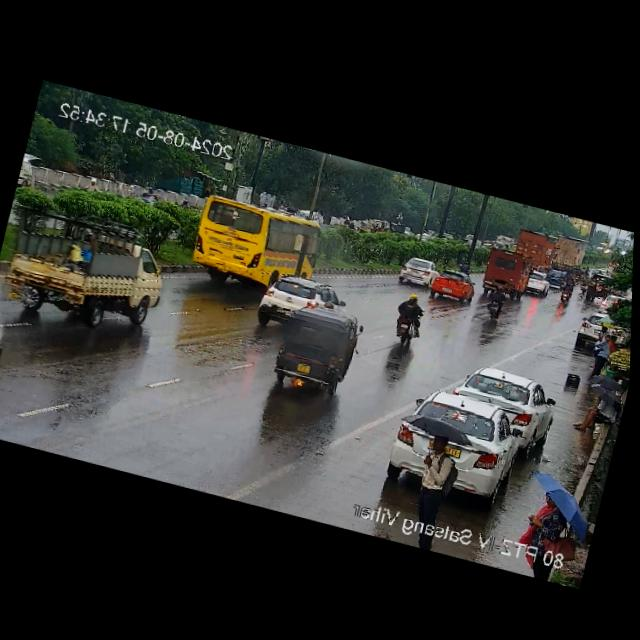bus: (177, 183, 325, 304)
car: (377, 379, 527, 511), (266, 298, 368, 405), (454, 362, 555, 444), (248, 266, 340, 339), (429, 266, 479, 307), (574, 395, 619, 438), (0, 297, 17, 405), (393, 253, 440, 289), (575, 307, 604, 345), (524, 269, 552, 297)
motorcycle: (381, 291, 432, 351), (564, 260, 615, 309), (474, 286, 508, 323), (555, 275, 577, 305)
person: (406, 430, 465, 526), (519, 491, 569, 563), (589, 330, 616, 378), (596, 324, 607, 340), (610, 335, 618, 348)
truck: (0, 193, 177, 336), (475, 244, 535, 303)
